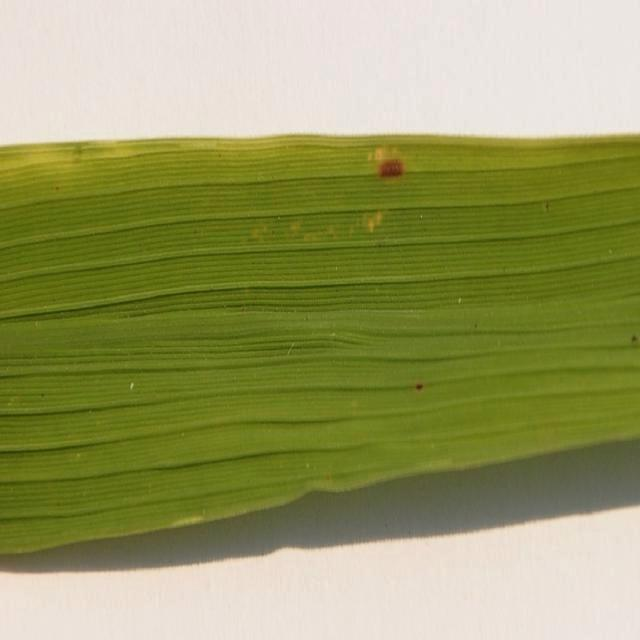Brownspot: (378, 159, 403, 177), (415, 382, 424, 392), (631, 334, 637, 343)
